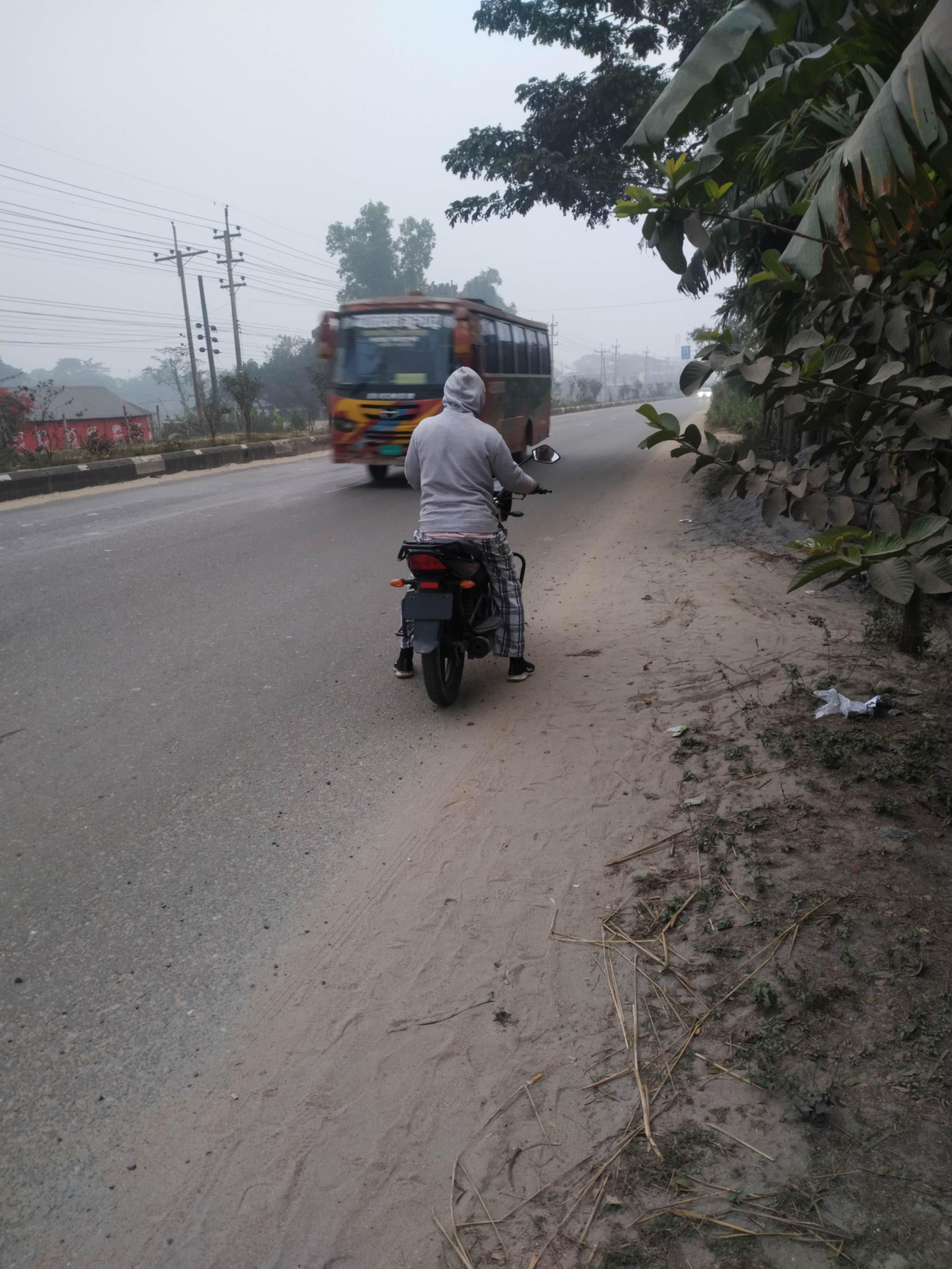Bike: (393, 366, 592, 726)
Bus: (313, 258, 595, 498)
